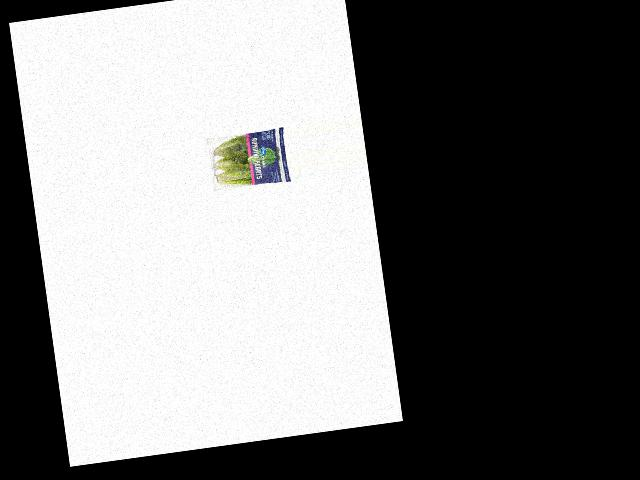lettuce: (208, 125, 289, 194)
